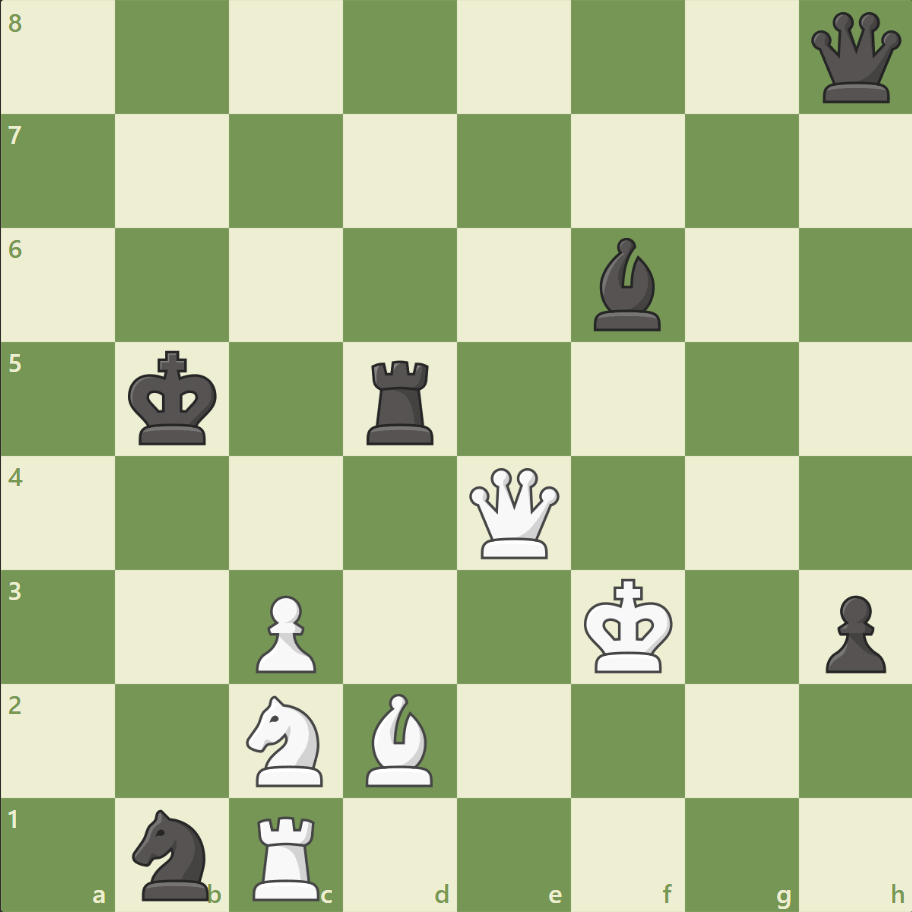B: (365, 693, 443, 796)
K: (582, 580, 680, 682)
N: (246, 694, 335, 795)
P: (255, 589, 327, 674)
Q: (468, 467, 569, 568)
R: (251, 808, 330, 908)
b: (592, 239, 670, 342)
k: (128, 353, 226, 455)
n: (133, 808, 222, 909)
p: (823, 589, 895, 674)
q: (808, 13, 909, 114)
r: (365, 354, 443, 454)
